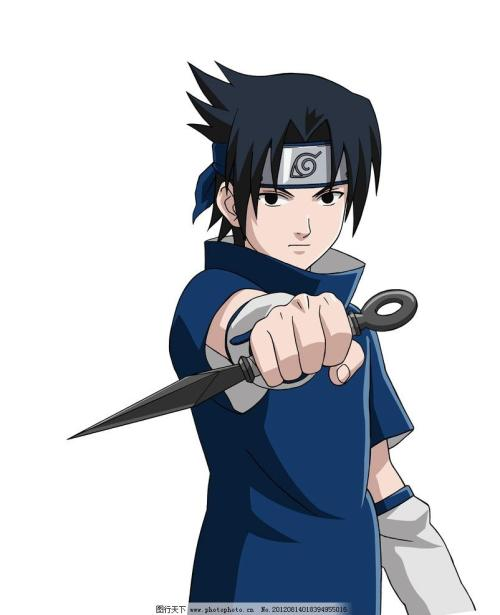sasuke: (211, 138, 355, 272)
